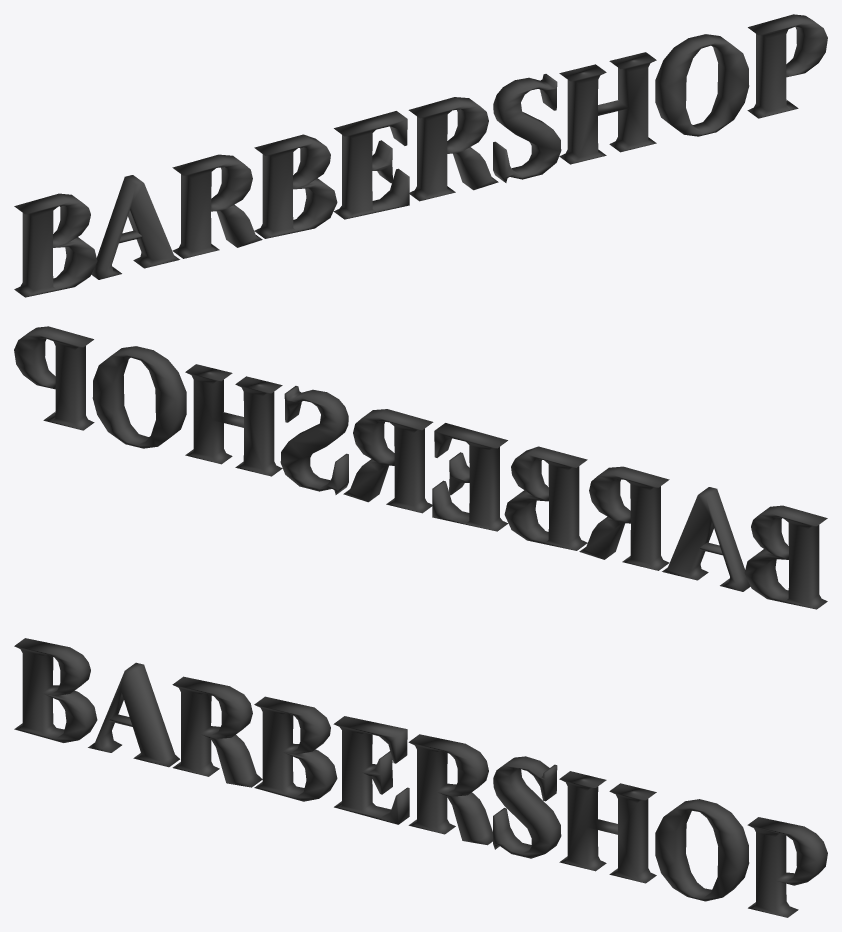
The model's file is Sign_Barbershop.glb.
3 renders of one model, top to bottom at view 1: azimuth 30°, elevation 25°; view 2: azimuth 150°, elevation 25°; view 3: azimuth 330°, elevation 25°, orthographic.
Visible parts, largest first — view 1: Sign_Barbershop; view 2: Sign_Barbershop; view 3: Sign_Barbershop.
Boxes of the visible parts, <box> form: Sign_Barbershop: <box>14,14,827,297</box>; Sign_Barbershop: <box>14,326,827,609</box>; Sign_Barbershop: <box>14,638,827,917</box>.
Bounding box in the file's own units: 2.01 × 0.2161 × 0.0483.
Materials: 1 (1 with a texture image).
